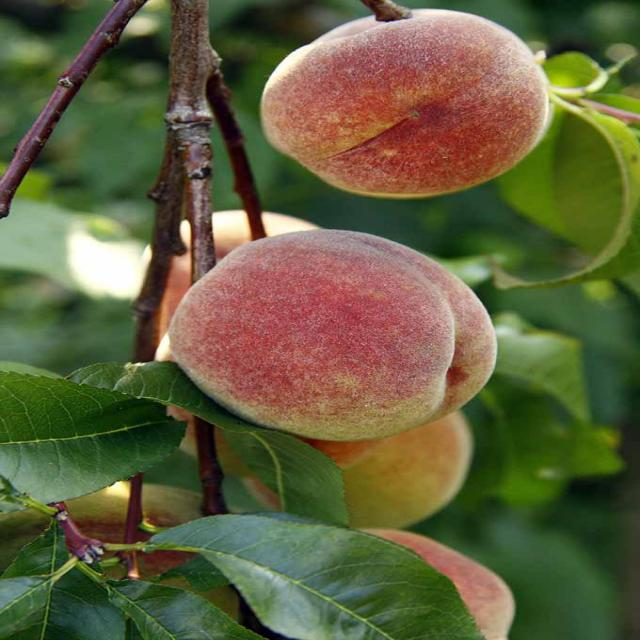peach: (0, 0, 568, 640)
